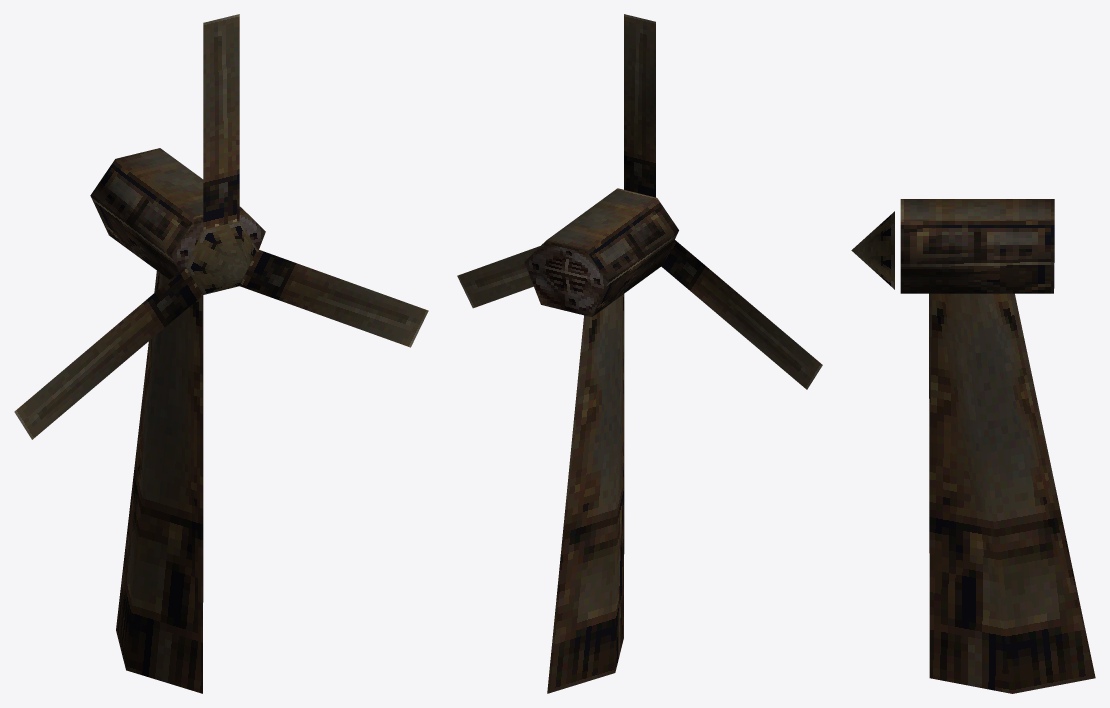
3 renders of one model, left to right at view 1: azimuth 30°, elevation 25°; view 2: azimuth 150°, elevation 25°; view 3: azimuth 270°, elevation 25°, orthographic. The views are drawn at different scales.
Parts seen in each view (by area): view 1: Joke_obj_060; view 2: Joke_obj_060; view 3: Joke_obj_060.
Boxes of the visible parts, left/top/right/bottom form: Joke_obj_060: left=14, top=14, right=428, bottom=693; Joke_obj_060: left=457, top=14, right=822, bottom=693; Joke_obj_060: left=851, top=199, right=1095, bottom=693.
Size of the model in its own units: 2.08 by 3.3 by 1.11.
Materials: 2 (2 with a texture image).
